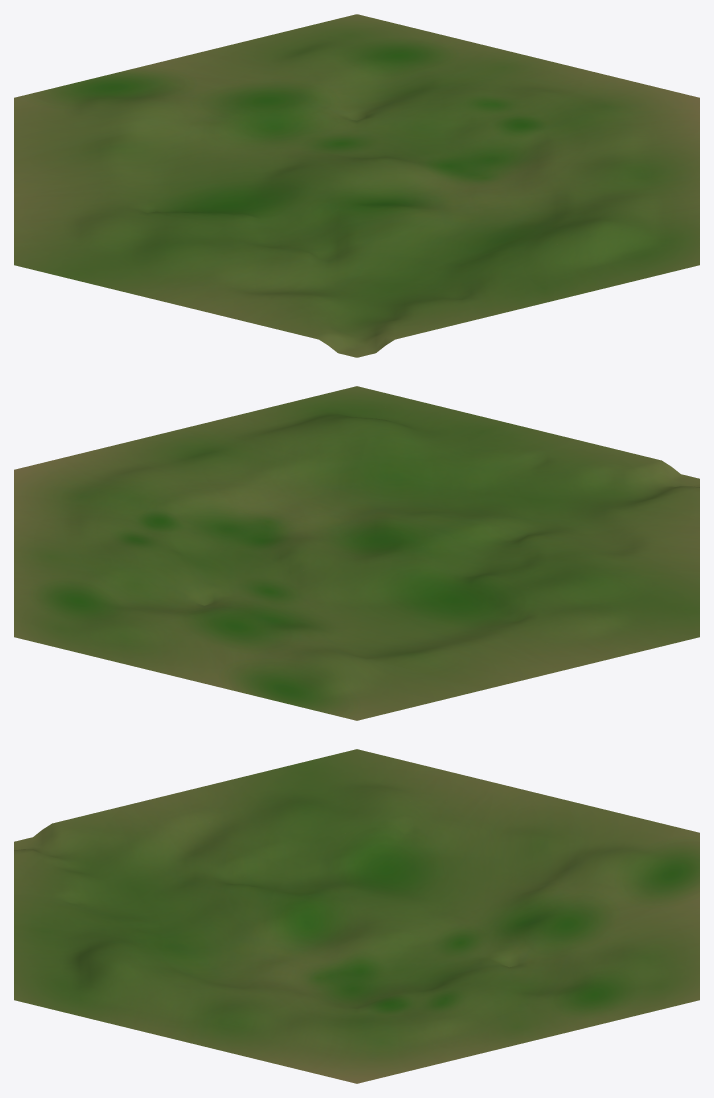
File: River0A.glb
3 renders of one model, top to bottom at view 1: azimuth 30°, elevation 25°; view 2: azimuth 150°, elevation 25°; view 3: azimuth 270°, elevation 25°, orthographic.
Parts seen in each view (by area): view 1: Circle; view 2: Circle; view 3: Circle.
Boxes of the visible parts, <box> form: Circle: <box>14,14,699,357</box>; Circle: <box>14,386,699,720</box>; Circle: <box>14,749,699,1083</box>.
Size of the model in its own units: 400 by 16.59 by 346.
1 material, 1 textured.
